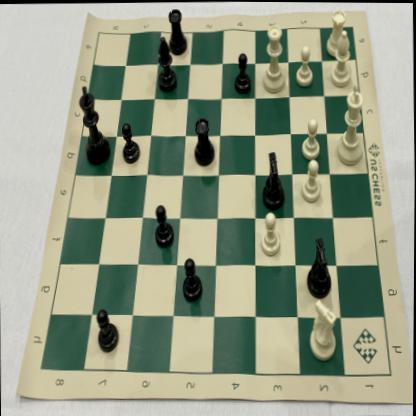black-bishop: (154, 32, 179, 94)
black-king: (76, 82, 112, 167)
black-knight: (303, 233, 335, 300), (257, 148, 288, 212)
black-pawn: (179, 254, 206, 306), (94, 307, 122, 357), (118, 119, 142, 167), (152, 201, 175, 250), (231, 49, 253, 96)
black-rook: (192, 115, 217, 169), (166, 2, 189, 58)
white-bishop: (326, 22, 356, 90)
white-king: (331, 81, 368, 168)
white-knight: (304, 296, 341, 363)
white-pawn: (259, 209, 284, 259), (298, 156, 324, 204), (299, 114, 323, 163), (292, 43, 316, 89)
white-queen: (258, 19, 286, 98)
white-rook: (324, 5, 349, 58)
